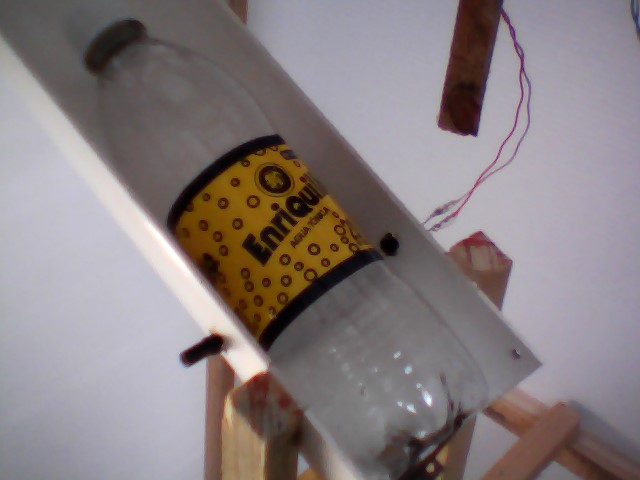plastico: (64, 2, 500, 480)
